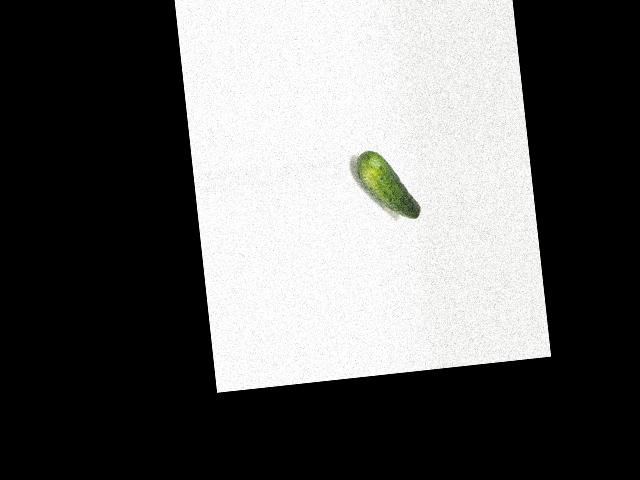cucumber: (355, 146, 421, 224)
